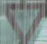Give way: (2, 2, 45, 42)
